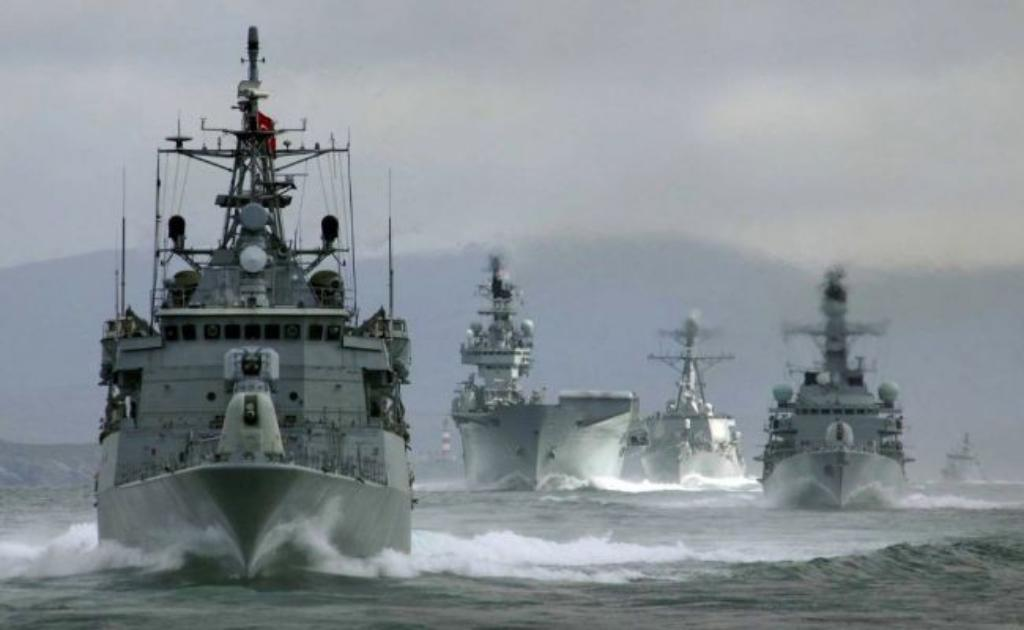Warship: (84, 25, 422, 586), (442, 229, 636, 503), (747, 258, 927, 518), (623, 307, 747, 497)
